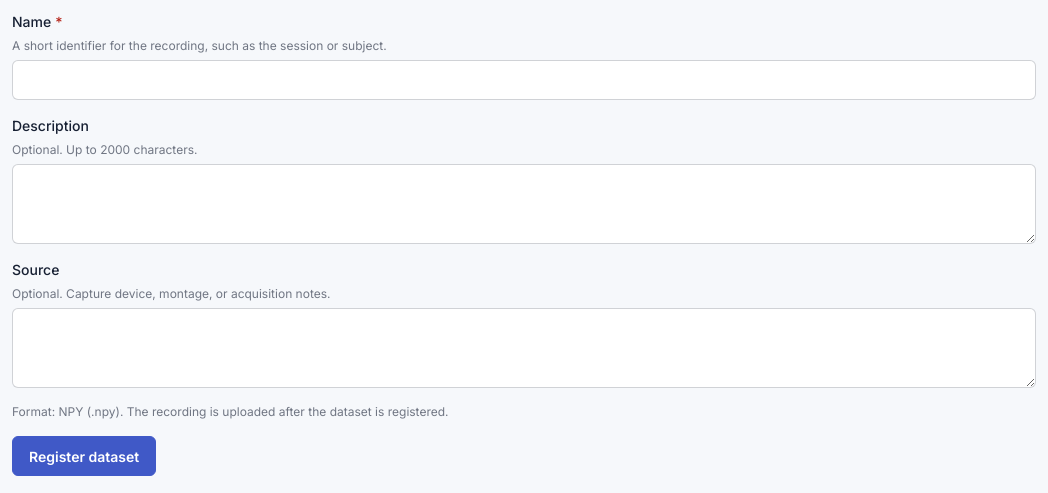
Test: DatasetForm › shows a registering pending state
In the field labelled "Name*": (524, 80) [12,60,1036,100], type "Recording 1"
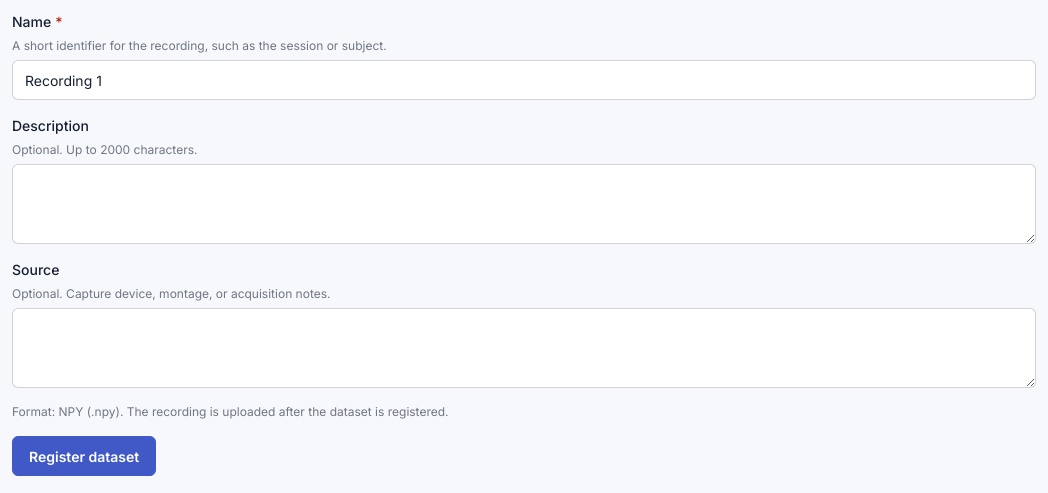
Submit the form named "Register dataset"
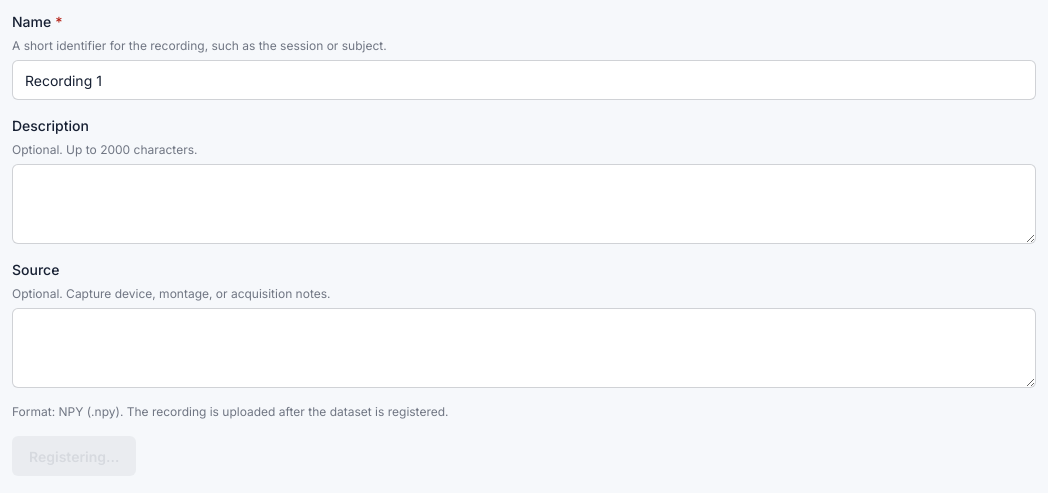
Expected: the button "Registering…" is disabled, [12,436,136,476]
